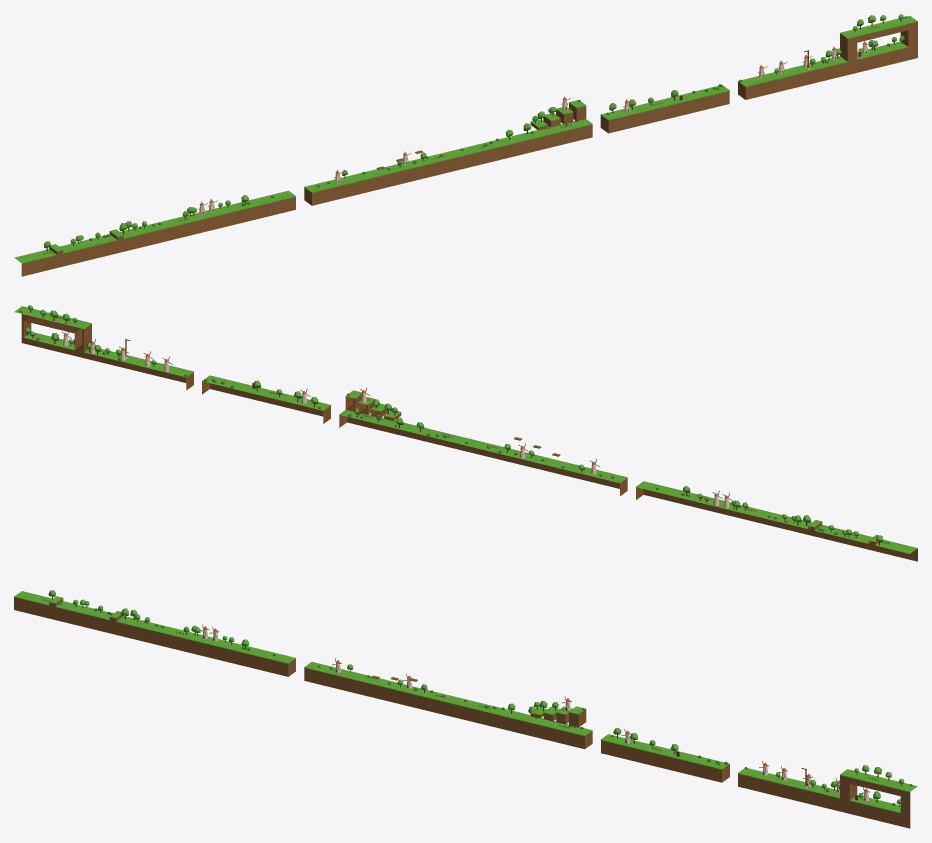
The model's file is level-0.glb.
The picture shows the model from 3 angles, top to bottom: view 1: azimuth 30°, elevation 25°; view 2: azimuth 150°, elevation 25°; view 3: azimuth 330°, elevation 25°; orthographic projection.
Visible parts, largest first — view 1: Sector_19_0, Sector_18_0, Sector_11_0, Sector_12_0, Sector_2_0, Sector_17_0, Sector_4_0, Sector_8_0, Sector_13_0, Sector_3_0, Sector_1_0, Sector_0_0 (+8 smaller); view 2: Sector_19_0, Sector_18_0, Sector_12_0, Sector_11_0, Sector_17_0, Sector_8_0, Sector_2_0, Sector_13_0, Sector_4_0, Sector_3_0, Sector_14_0, Sector_7_0 (+8 smaller); view 3: Sector_19_0, Sector_18_0, Sector_12_0, Sector_11_0, Sector_4_0, Sector_17_0, Sector_2_0, Sector_8_0, Sector_1_0, Sector_3_0, Sector_7_0, Sector_0_0 (+8 smaller).
Part boxes in pixels (left/top/right/bottom): Sector_19_0: left=862, top=14, right=914, bottom=69; Sector_18_0: left=818, top=19, right=870, bottom=80; Sector_11_0: left=505, top=107, right=557, bottom=156; Sector_12_0: left=550, top=96, right=592, bottom=145; Sector_2_0: left=106, top=221, right=155, bottom=254; Sector_17_0: left=773, top=50, right=825, bottom=91; Sector_4_0: left=193, top=199, right=244, bottom=232; Sector_8_0: left=371, top=150, right=423, bottom=189; Sector_13_0: left=600, top=99, right=646, bottom=133; Sector_3_0: left=148, top=207, right=200, bottom=243; Sector_1_0: left=59, top=232, right=110, bottom=265; Sector_0_0: left=14, top=241, right=66, bottom=276; Sector_19_0: left=17, top=305, right=69, bottom=354; Sector_18_0: left=62, top=313, right=114, bottom=365; Sector_12_0: left=339, top=387, right=381, bottom=430; Sector_11_0: left=373, top=402, right=426, bottom=441; Sector_17_0: left=107, top=339, right=158, bottom=376; Sector_8_0: left=509, top=437, right=560, bottom=474; Sector_2_0: left=776, top=514, right=828, bottom=539; Sector_13_0: left=285, top=388, right=331, bottom=423; Sector_4_0: left=687, top=490, right=739, bottom=517; Sector_3_0: left=731, top=500, right=783, bottom=528; Sector_14_0: left=241, top=380, right=292, bottom=408; Sector_7_0: left=553, top=459, right=605, bottom=485; Sector_19_0: left=862, top=767, right=914, bottom=827; Sector_18_0: left=817, top=765, right=869, bottom=816; Sector_12_0: left=550, top=696, right=592, bottom=749; Sector_11_0: left=505, top=700, right=556, bottom=740; Sector_4_0: left=192, top=624, right=243, bottom=664; Sector_17_0: left=773, top=766, right=823, bottom=805; Sector_2_0: left=103, top=608, right=155, bottom=642; Sector_8_0: left=371, top=674, right=421, bottom=707; Sector_1_0: left=58, top=599, right=110, bottom=631; Sector_3_0: left=148, top=624, right=200, bottom=653; Sector_7_0: left=326, top=658, right=377, bottom=696; Sector_0_0: left=14, top=590, right=65, bottom=620.
Size of the model in its own units: 281 by 14.08 by 4.85.
Materials: 1 (1 with a texture image).
